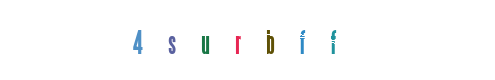4: (141, 0, 221, 80)
B: (197, 0, 277, 80)
F: (207, 0, 287, 80), (230, 0, 310, 80)
R: (195, 0, 275, 80)
S: (165, 0, 245, 80)
U: (172, 0, 252, 80)
